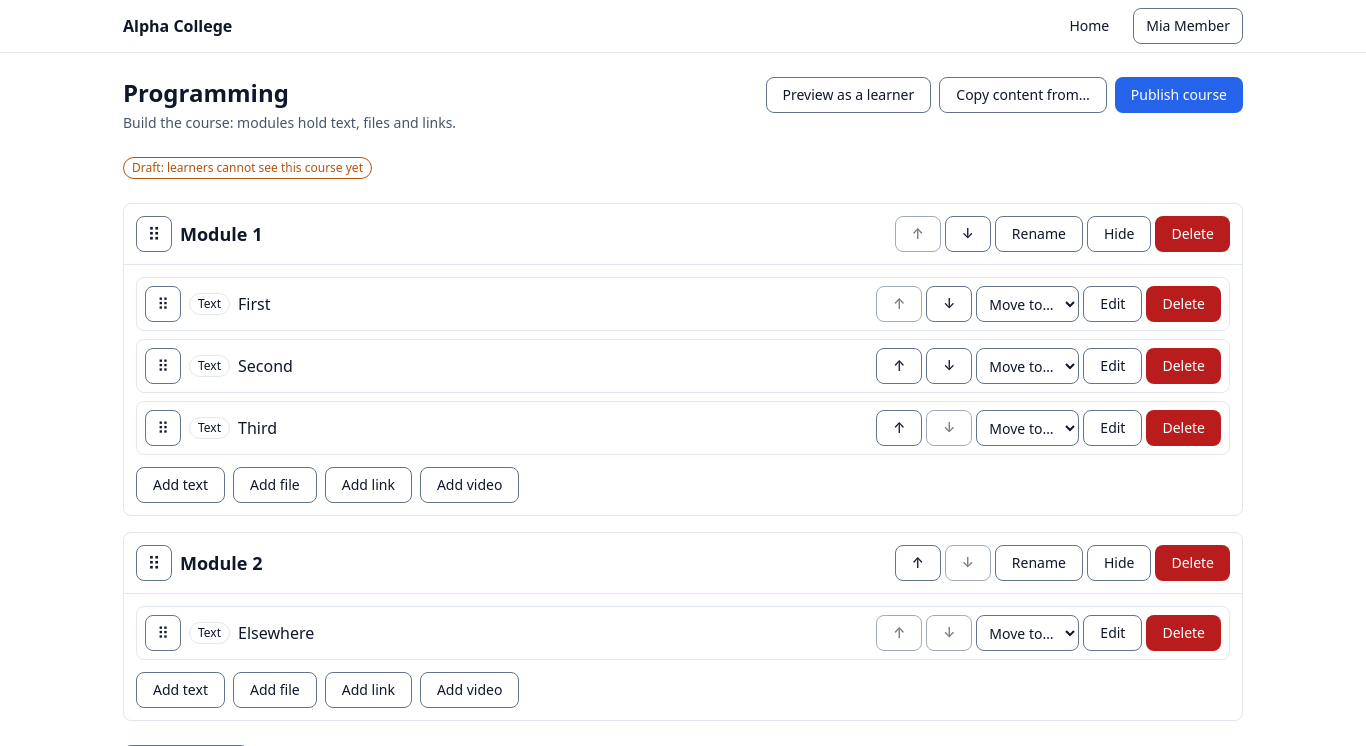
Test case: the builder › deleting asks first and NAMES the target; cancelling deletes nothing
This screenshot has width=1366, height=746.
Check: the heading "Module 1" is shown, box top-left (180, 222), bottom-right (262, 246)
Step 1. Click the button with aria-label "Delete Third" → click(1184, 428), box top-left (1146, 410), bottom-right (1221, 446)
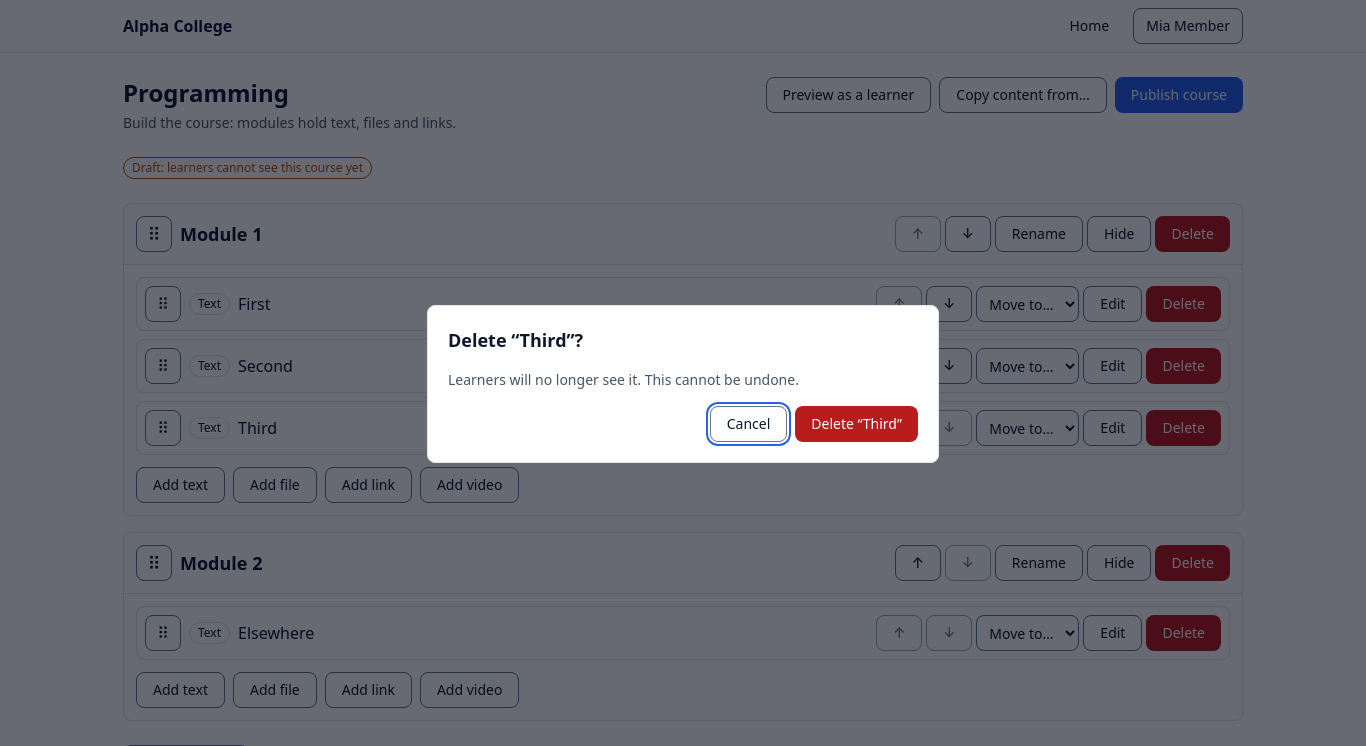
Check: the heading "Delete “Third”?" is shown, box top-left (448, 328), bottom-right (583, 352)
Step 2. Click the button "Cancel" → click(748, 424), box top-left (710, 406), bottom-right (787, 442)
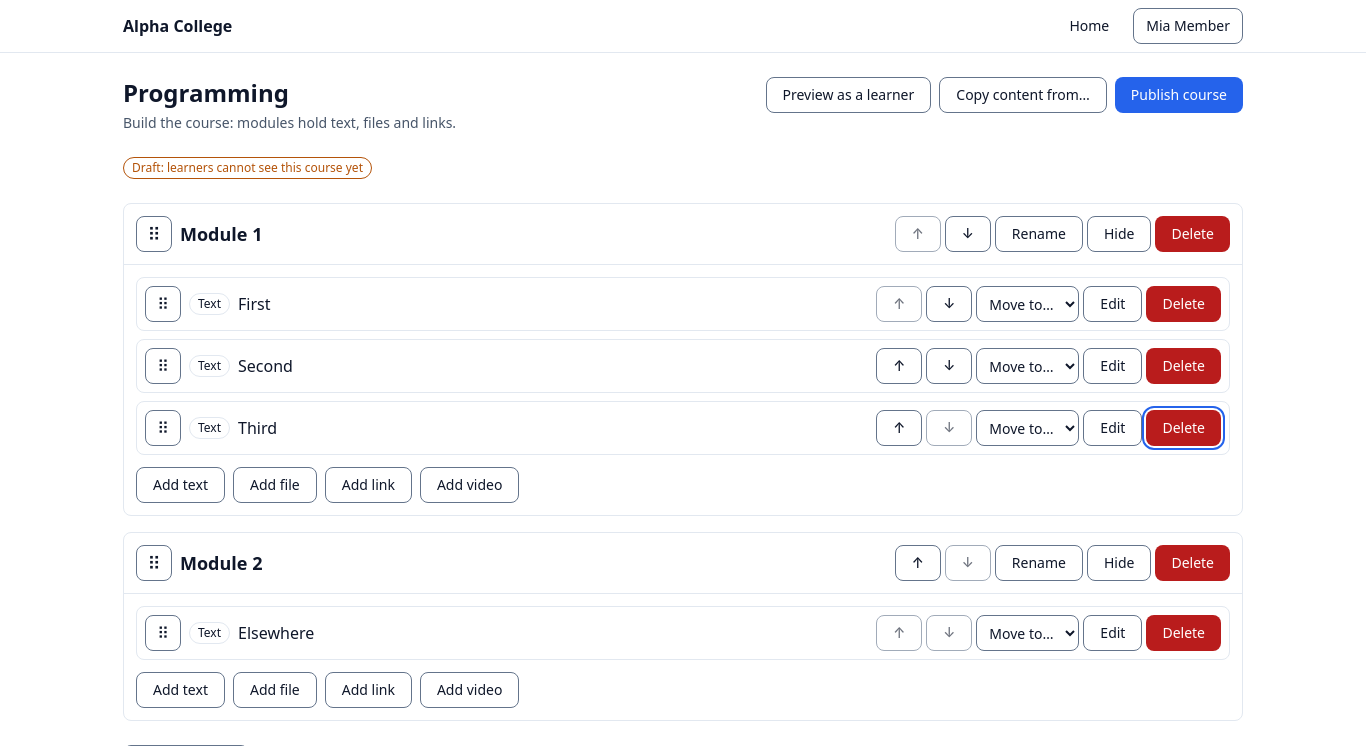
Step 3. Click the button with aria-label "Delete Third" → click(1184, 428), box top-left (1146, 410), bottom-right (1221, 446)
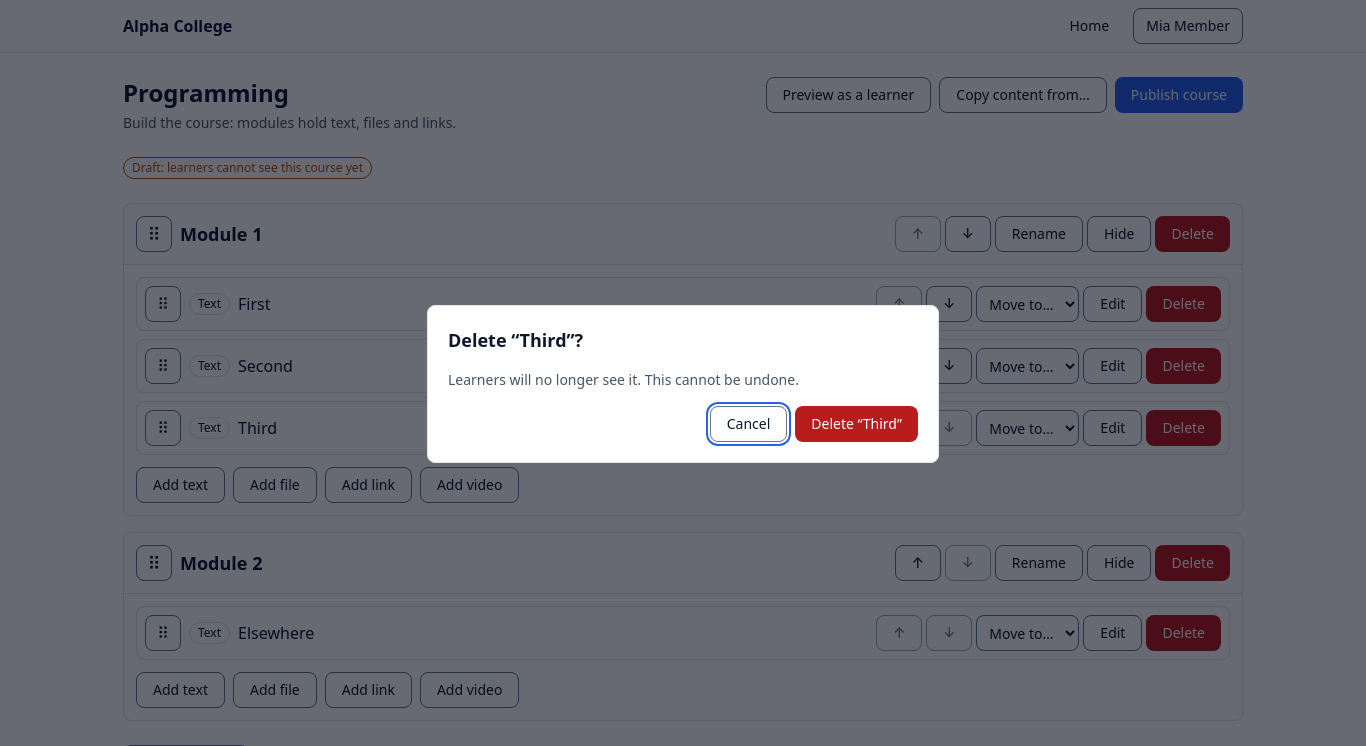
Step 4. Click the button "Delete “Third”" → click(857, 424), box top-left (795, 406), bottom-right (918, 442)
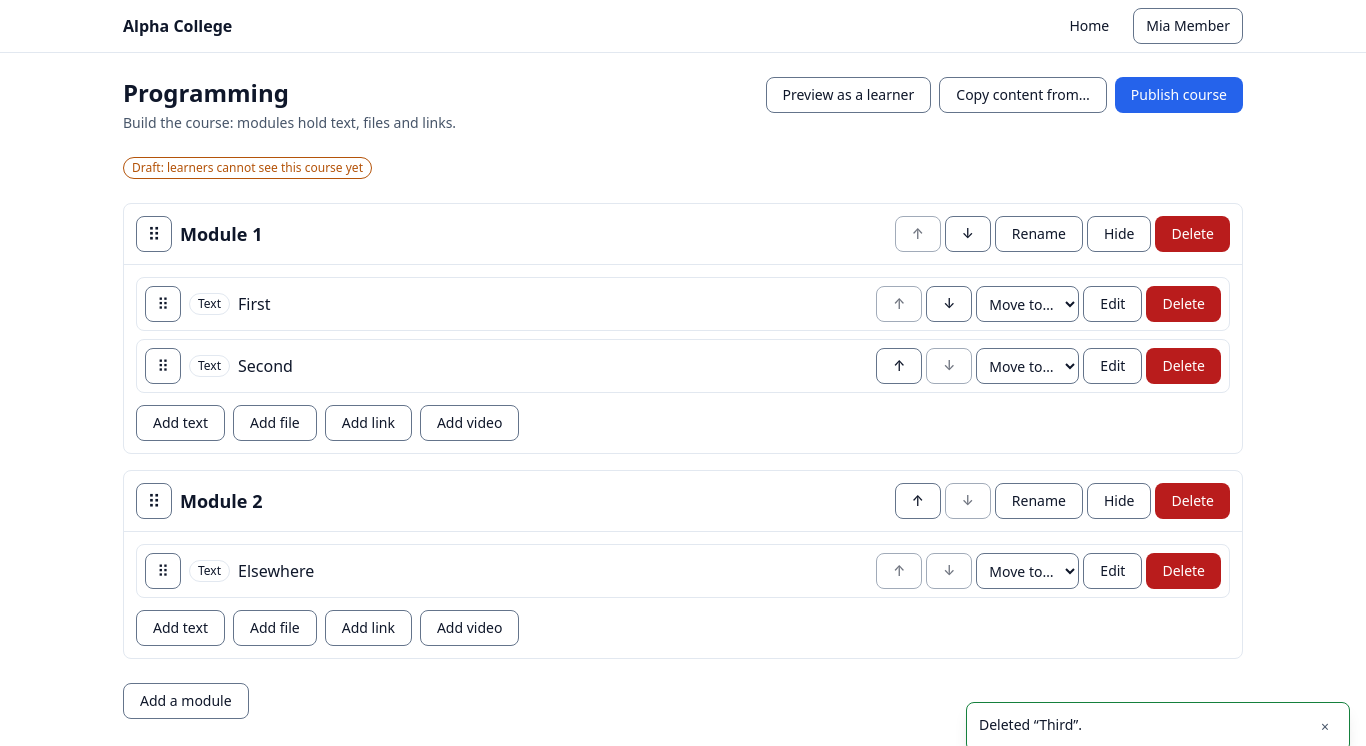
Check: the text "Deleted “Third”." is shown, box top-left (979, 715), bottom-right (1082, 734)
